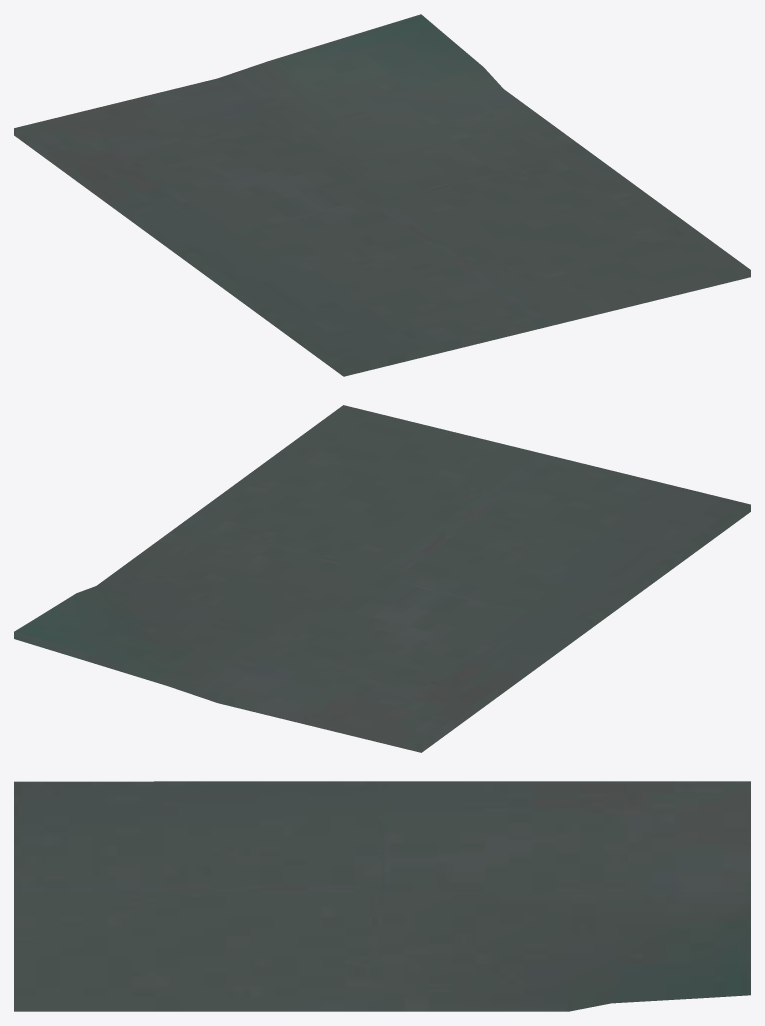
3 views of the same model, one above another, from view 1: azimuth 30°, elevation 25°; view 2: azimuth 150°, elevation 25°; view 3: azimuth 270°, elevation 25° (orthographic). The views are drawn at different scales.
Visible parts, largest first — view 1: 30436272704370637621_0; view 2: 30436272704370637621_0; view 3: 30436272704370637621_0.
Part boxes in pixels (x1=…): 30436272704370637621_0: x1=14, y1=14, x2=750, y2=376; 30436272704370637621_0: x1=14, y1=405, x2=750, y2=752; 30436272704370637621_0: x1=14, y1=781, x2=750, y2=1011.
Size of the model in its own units: 27.32 by 1.41 by 38.26.
Materials: 1 (1 with a texture image).
